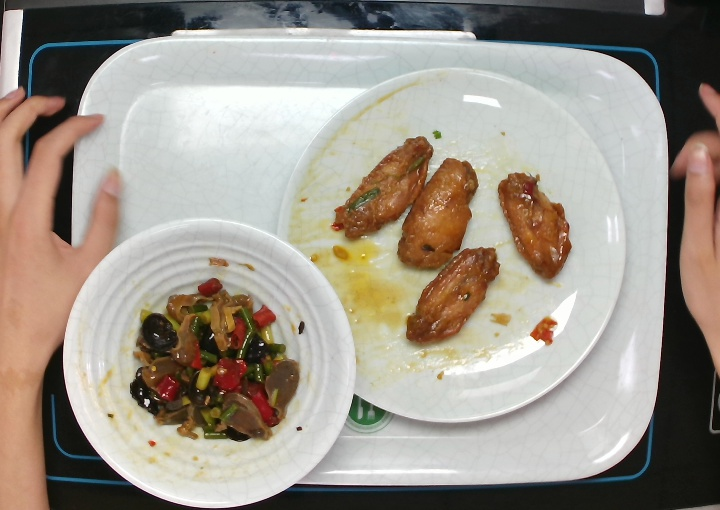JYsf-Da_Yuan_Pan: (275, 65, 627, 424)
JYsf-Xiao_Tang_Wan: (61, 217, 359, 510)
